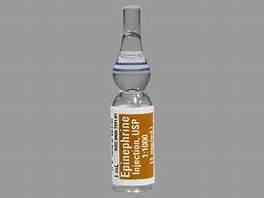Syringe: (105, 2, 158, 198)
